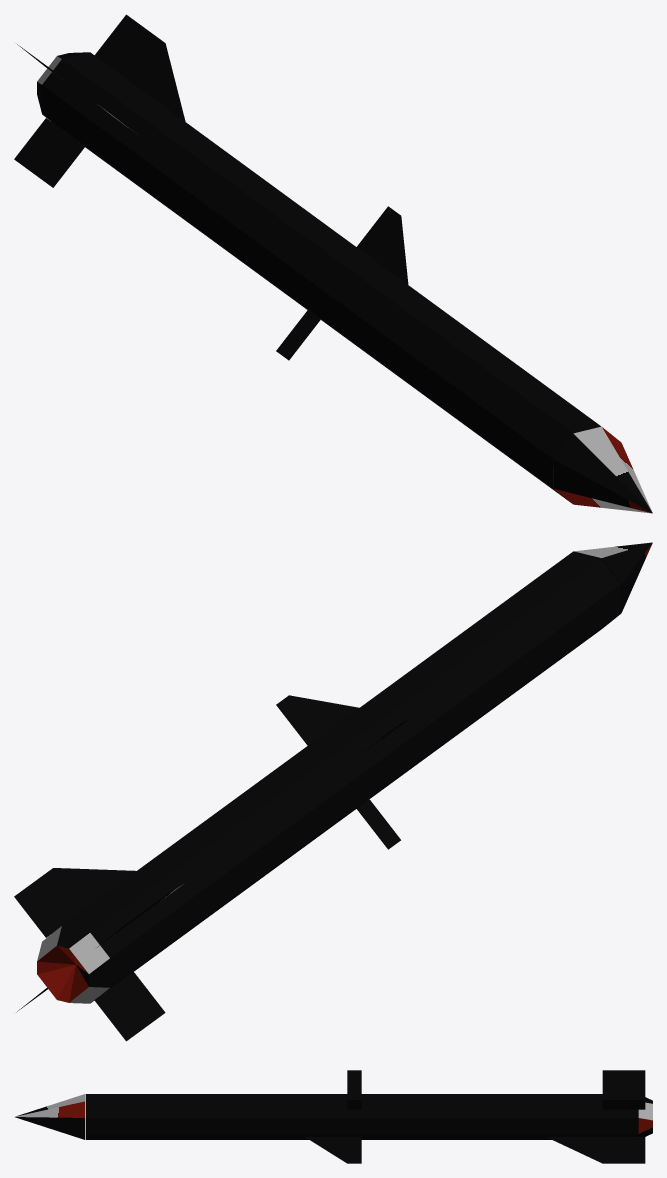
The model's file is aim120c.obj.
3 renders of one model, top to bottom at view 1: azimuth 30°, elevation 25°; view 2: azimuth 150°, elevation 25°; view 3: azimuth 270°, elevation 25°, orthographic. The views are drawn at different scales.
Visible parts, largest first — view 1: cylinder14, cone, cube2, cube, plane13, plane15, cube7, cube6; view 2: cylinder14, cylinder, cube2, cube, cone, plane13, plane15, cube7, cube6; view 3: cylinder14, cone, cube1, cube3, plane10, plane8, cylinder, cube, cube5, cube4.
Boxes of the visible parts, x1,y1,x2,y2 form: cylinder14: (42, 52, 600, 502); cone: (553, 426, 652, 513); cube2: (14, 118, 84, 187); cube: (94, 14, 165, 83); plane13: (134, 43, 185, 121); plane15: (369, 216, 408, 284); cube7: (276, 310, 320, 360); cube6: (357, 206, 400, 256); cylinder14: (62, 552, 620, 1002); cylinder: (37, 925, 109, 1003); cube2: (94, 971, 165, 1041); cube: (14, 868, 84, 937); cone: (573, 542, 652, 613); plane13: (53, 868, 135, 908); plane15: (289, 695, 359, 735); cube7: (356, 799, 400, 849); cube6: (276, 695, 320, 745); cylinder14: (85, 1094, 638, 1139); cone: (15, 1094, 84, 1139); cube1: (602, 1137, 645, 1163); cube3: (602, 1070, 645, 1096); plane10: (546, 1137, 602, 1163); plane8: (305, 1137, 347, 1163); cylinder: (638, 1094, 652, 1136); cube: (602, 1100, 645, 1109); cube5: (347, 1137, 361, 1163); cube4: (347, 1070, 361, 1093).
Size of the model in its own units: 0.6189 by 0.6189 by 5.63.
